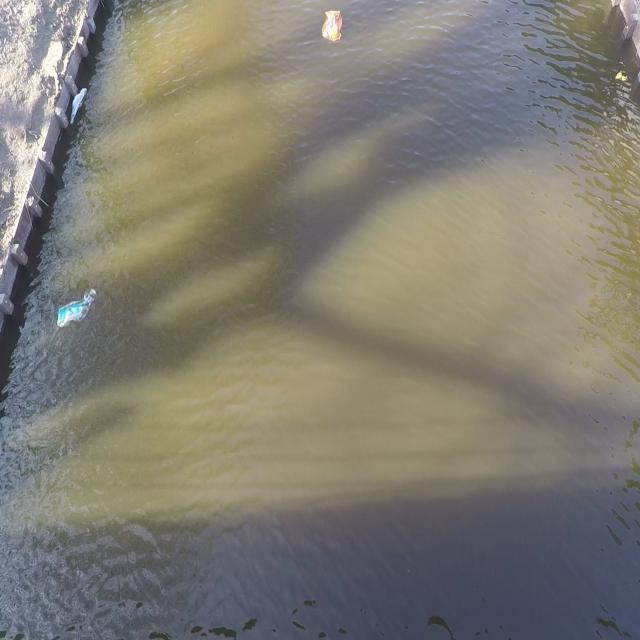Sac plastique: (52, 286, 102, 330), (318, 8, 348, 50)
